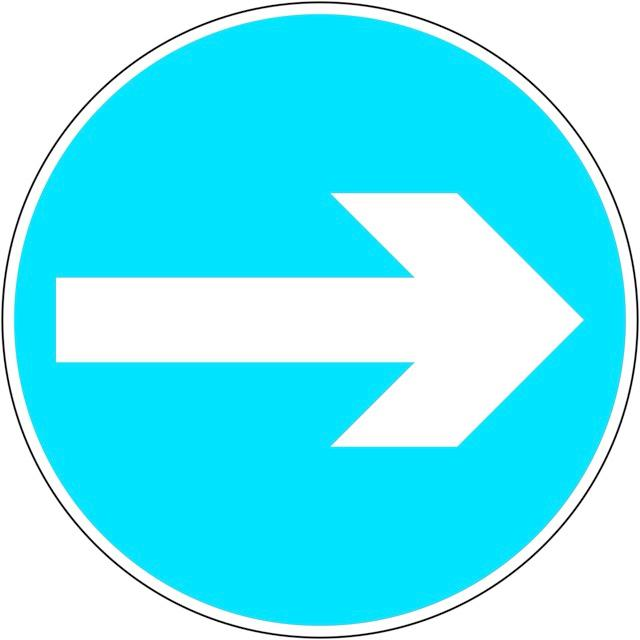TURN RIGHT: (2, 1, 640, 640)
